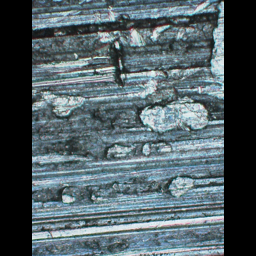d: (137, 94, 213, 134), (58, 178, 163, 206), (38, 88, 88, 118), (167, 175, 197, 200), (137, 139, 173, 159), (106, 139, 135, 161)
